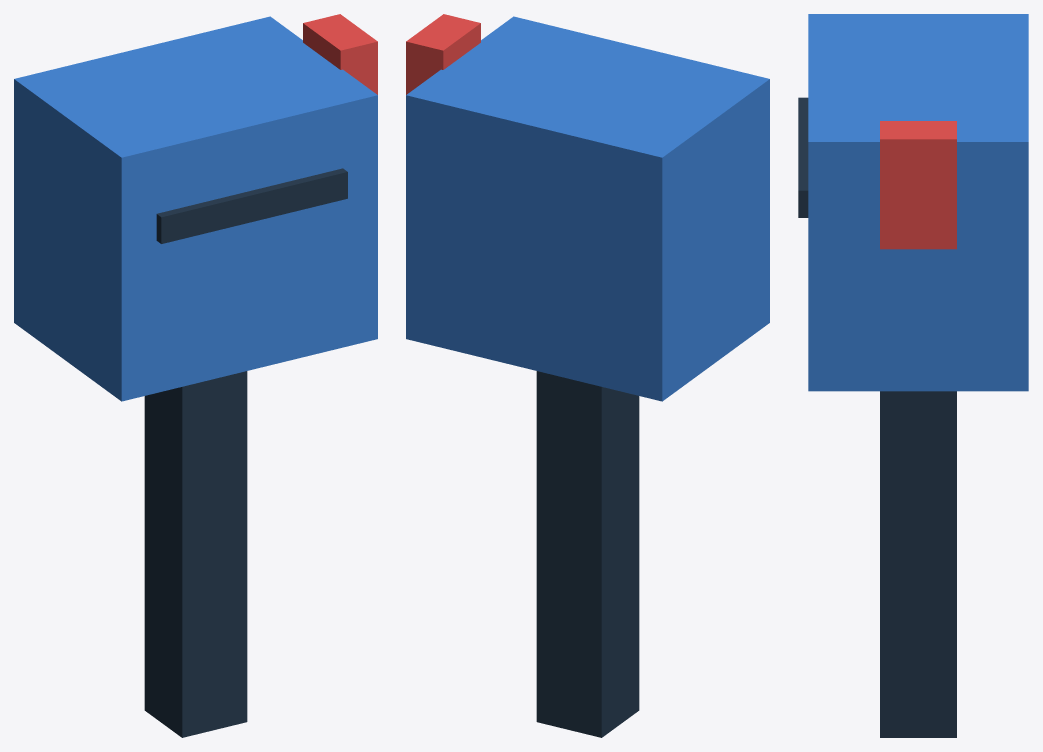
File: 17_mailbox.obj
3 views of the same model, side by side, from view 1: azimuth 30°, elevation 25°; view 2: azimuth 150°, elevation 25°; view 3: azimuth 270°, elevation 25° (orthographic). The views are drawn at different scales.
Parts seen in each view (by area): view 1: part_1, part_0, part_2, part_3; view 2: part_1, part_0, part_3; view 3: part_1, part_0, part_3, part_2.
Part boxes in pixels (box(x1,y1,x2,y2)): part_1: box(14, 16, 377, 401); part_0: box(144, 371, 247, 737); part_2: box(156, 168, 347, 243); part_3: box(303, 14, 377, 94); part_1: box(406, 16, 769, 401); part_0: box(536, 371, 639, 737); part_3: box(406, 14, 480, 94); part_1: box(808, 14, 1028, 391); part_0: box(880, 391, 956, 737); part_3: box(880, 121, 956, 249); part_2: box(798, 97, 808, 217).
Bounding box in the file's own units: 0.625 × 1.33 × 0.418.
